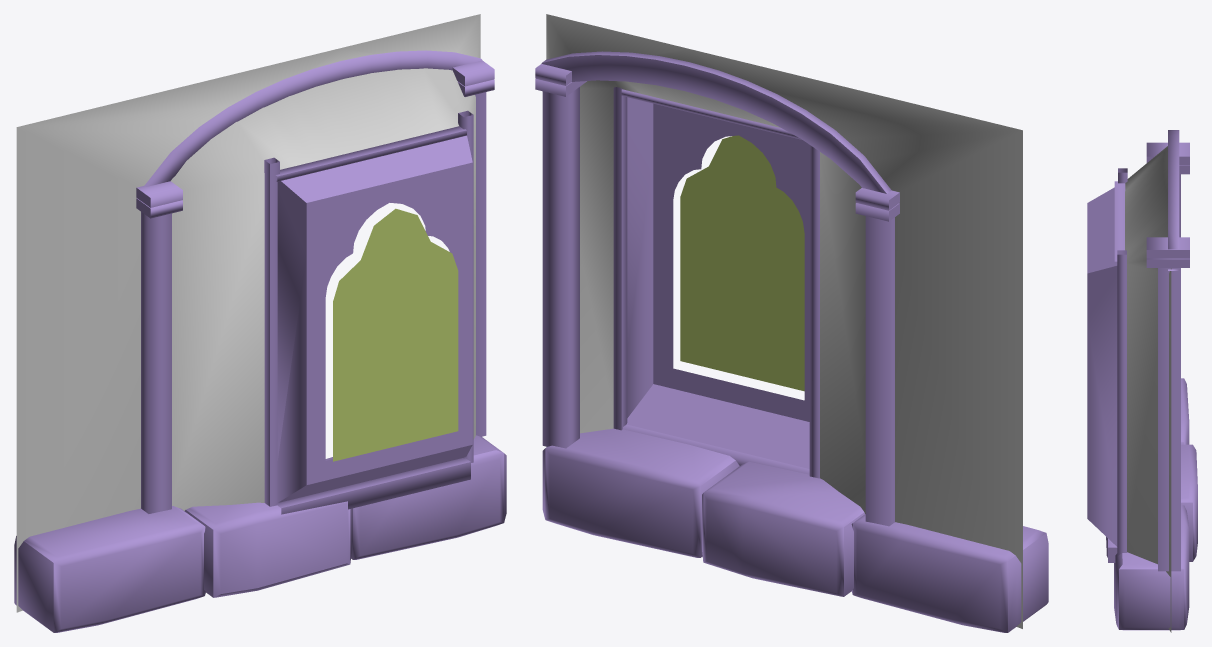
Rendered from window_b_inside_variant_b.fbx.
3 views of the same model, side by side, from view 1: azimuth 30°, elevation 25°; view 2: azimuth 150°, elevation 25°; view 3: azimuth 270°, elevation 25° (orthographic). The views are drawn at different scales.
Parts seen in each view (by area): view 1: varinant_b.001; view 2: varinant_b.001; view 3: varinant_b.001.
Boxes of the visible parts, x1,y1,x2,y2 form: varinant_b.001: [14, 14, 506, 632]; varinant_b.001: [535, 14, 1048, 632]; varinant_b.001: [1087, 130, 1197, 632].
Size of the model in its own units: 5 by 5.05 by 1.3.
